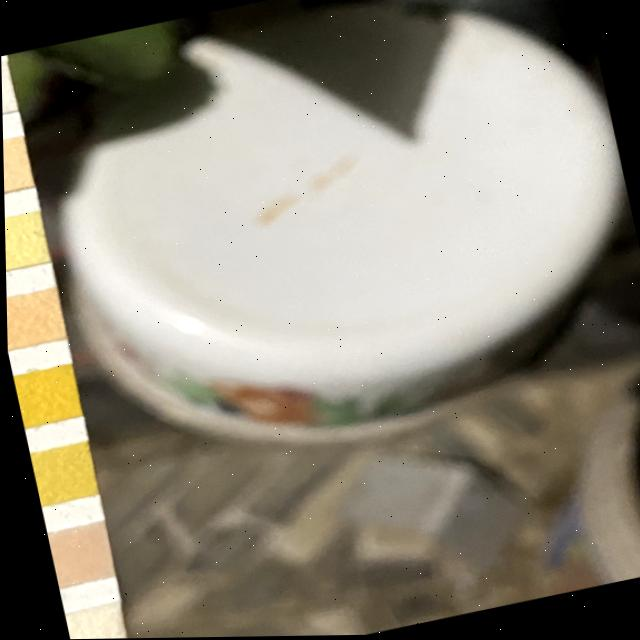Bilirubin: (62, 602, 123, 639)
Blood: (12, 367, 78, 427)
Ketone: (45, 523, 113, 588)
Nitrite: (1, 64, 16, 120)
Protein: (4, 211, 47, 272)
SpGravity: (28, 443, 95, 504)
Urobilinogen: (2, 139, 27, 193)
pH: (5, 287, 62, 348)
